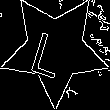L_N: (34, 20, 76, 78)
